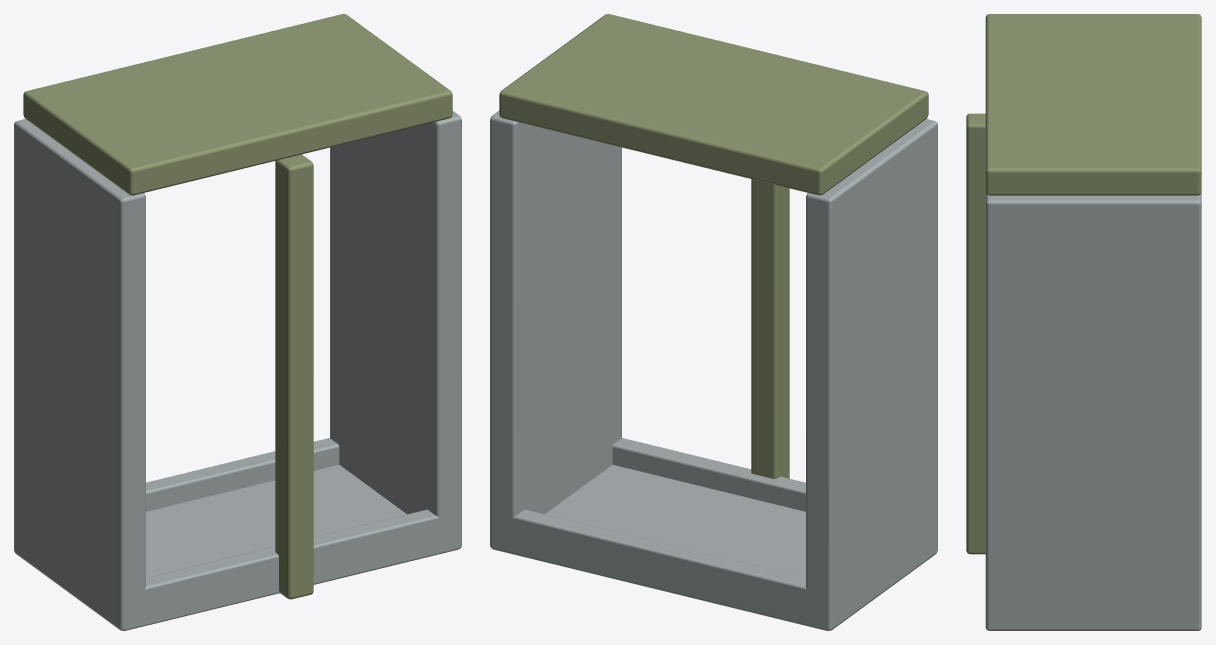
The model's file is survivor-vehicle-maintenance-rear-jerrycan-frame-e8531069__26667.glb.
3 renders of one model, left to right at view 1: azimuth 30°, elevation 25°; view 2: azimuth 150°, elevation 25°; view 3: azimuth 270°, elevation 25°, orthographic.
Parts seen in each view (by area): view 1: rear-jerrycan-frame; view 2: rear-jerrycan-frame; view 3: rear-jerrycan-frame.
Boxes of the visible parts, x1=… form: rear-jerrycan-frame: x1=14, y1=14, x2=461, y2=630; rear-jerrycan-frame: x1=490, y1=14, x2=937, y2=630; rear-jerrycan-frame: x1=966, y1=14, x2=1201, y2=630.
Bounding box in the file's own units: 0.455 × 0.585 × 0.2725.
